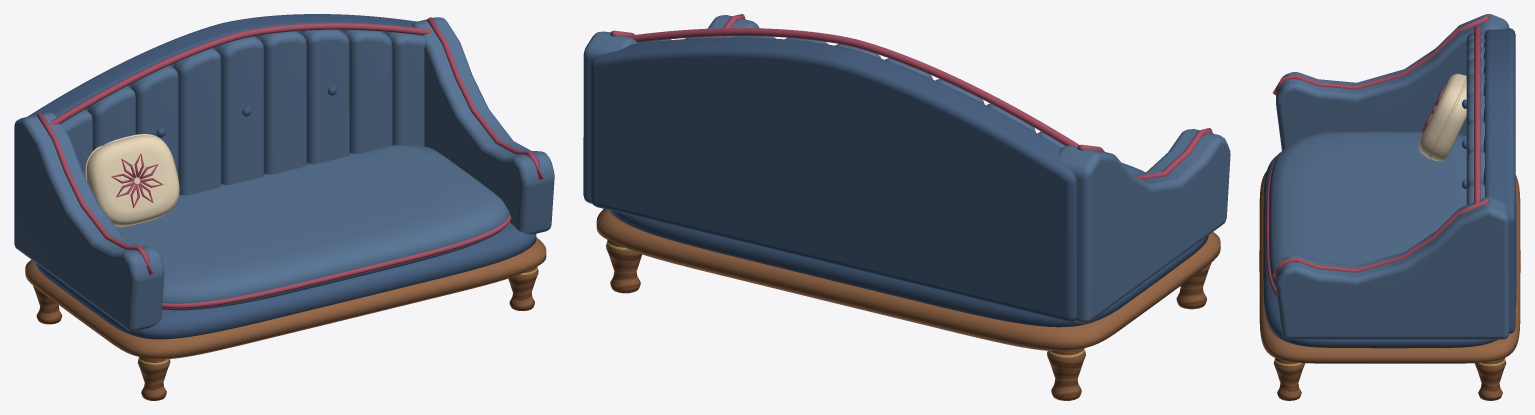
The model's file is bed-daybed.glb.
3 renders of one model, left to right at view 1: azimuth 30°, elevation 25°; view 2: azimuth 150°, elevation 25°; view 3: azimuth 270°, elevation 25°, orthographic. The views are drawn at different scales.
Parts seen in each view (by area): view 1: Window seat - daybed; view 2: Window seat - daybed; view 3: Window seat - daybed.
Boxes of the visible parts, box(x1,y1,x2,y2) form: Window seat - daybed: box(14, 14, 554, 400); Window seat - daybed: box(583, 14, 1230, 400); Window seat - daybed: box(1259, 14, 1520, 400).
Bounding box in the file's own units: 1.1 × 0.613 × 0.61.
Materials: 6 (4 with a texture image).
